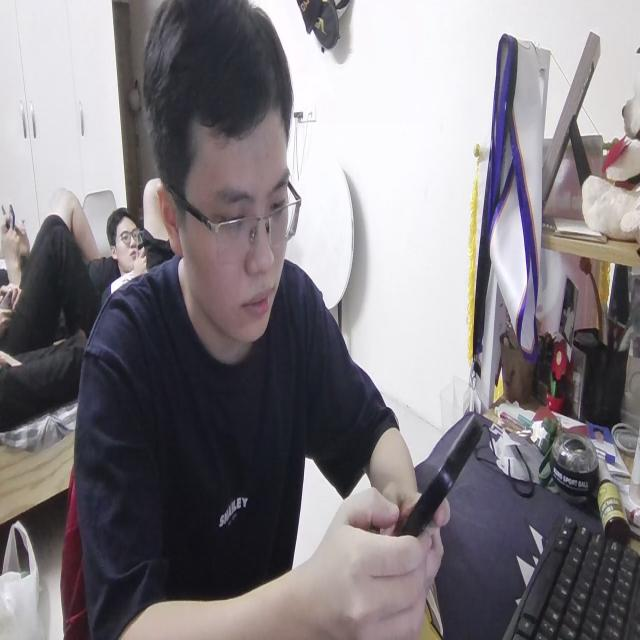extra_person: (1, 186, 94, 412), (99, 182, 164, 288)
phone: (392, 408, 483, 545)
student: (71, 0, 442, 640)
